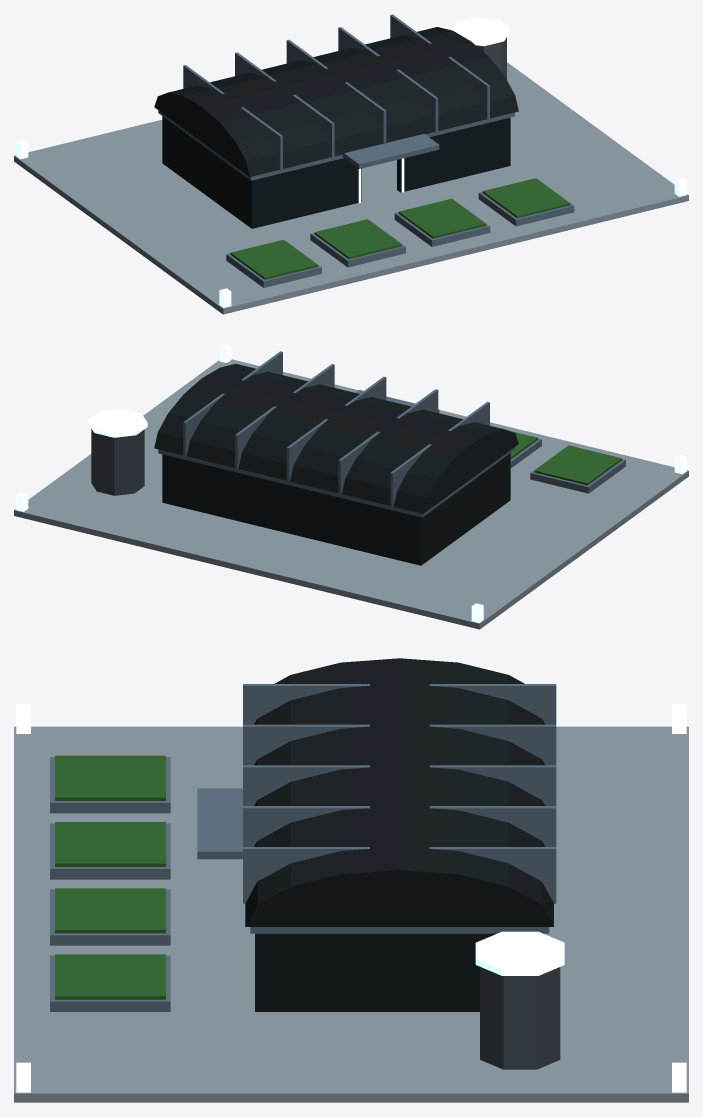
The model's file is shaddai_dist_arctic_farm_v01.glb.
3 renders of one model, top to bottom at view 1: azimuth 30°, elevation 25°; view 2: azimuth 150°, elevation 25°; view 3: azimuth 270°, elevation 25°, orthographic. The views are drawn at different scales.
Visible parts, largest first — view 1: shaddai_dist_arctic_farm; view 2: shaddai_dist_arctic_farm; view 3: shaddai_dist_arctic_farm.
Part boxes in pixels (<box>): shaddai_dist_arctic_farm: <box>14,14,688,314</box>; shaddai_dist_arctic_farm: <box>14,343,688,629</box>; shaddai_dist_arctic_farm: <box>14,658,688,1102</box>.
Size of the model in its own units: 36 by 7.1 by 28.
